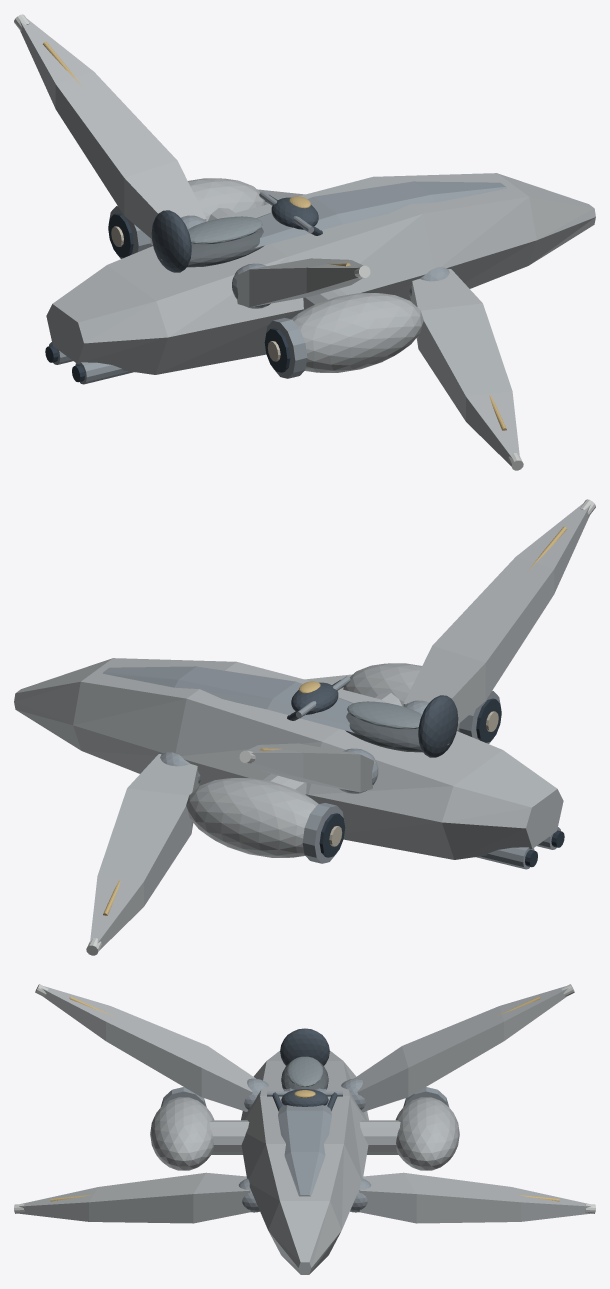
File: busan_pulse_silver_active.glb
The picture shows the model from 3 angles, top to bottom: view 1: azimuth 30°, elevation 25°; view 2: azimuth 150°, elevation 25°; view 3: azimuth 270°, elevation 25°; orthographic projection. The views are drawn at different scales.
Parts seen in each view (by area): view 1: center_hull_0, rear_wings_7, front_wings_10, side_turbine_housing_12, central_panel_1, seat_back_3, turbine_rim_13, saddle_pad_18, saddle_2, turbine_dark_inner_14, instrument_cluster_19, wing_hinges_6 (+1 smaller); view 2: center_hull_0, rear_wings_7, front_wings_10, side_turbine_housing_12, central_panel_1, seat_back_3, turbine_rim_13, saddle_pad_18, saddle_2, turbine_dark_inner_14, instrument_cluster_19, wing_hinges_6 (+1 smaller); view 3: front_wings_10, rear_wings_7, center_hull_0, side_turbine_housing_12, central_panel_1, pod_arm_11, wing_hinges_6, seat_back_3, saddle_pad_18, turbine_rim_13, instrument_cluster_19, saddle_2 (+2 smaller).
Part boxes in pixels (x1,y1,x2,y2): center_hull_0: [46, 173, 595, 374]; rear_wings_7: [19, 18, 363, 307]; front_wings_10: [257, 189, 519, 465]; side_turbine_housing_12: [150, 178, 423, 372]; central_panel_1: [255, 181, 506, 247]; seat_back_3: [151, 210, 191, 272]; turbine_rim_13: [108, 206, 307, 378]; saddle_pad_18: [188, 216, 262, 244]; saddle_2: [160, 227, 264, 267]; turbine_dark_inner_14: [108, 213, 290, 372]; instrument_cluster_19: [271, 197, 318, 229]; wing_hinges_6: [181, 215, 449, 308]; center_hull_0: [14, 658, 563, 859]; rear_wings_7: [246, 503, 590, 792]; front_wings_10: [90, 674, 352, 950]; side_turbine_housing_12: [186, 663, 459, 857]; central_panel_1: [103, 666, 354, 732]; seat_back_3: [418, 695, 458, 757]; turbine_rim_13: [302, 691, 501, 863]; saddle_pad_18: [347, 701, 421, 729]; saddle_2: [345, 712, 449, 752]; turbine_dark_inner_14: [319, 698, 501, 857]; instrument_cluster_19: [291, 682, 338, 714]; wing_hinges_6: [160, 700, 428, 793]; front_wings_10: [19, 1172, 590, 1223]; rear_wings_7: [41, 986, 568, 1111]; center_hull_0: [241, 1050, 368, 1274]; side_turbine_housing_12: [150, 1097, 459, 1170]; central_panel_1: [278, 1088, 331, 1196]; pod_arm_11: [209, 1120, 400, 1154]; wing_hinges_6: [238, 1078, 371, 1212]; seat_back_3: [280, 1028, 329, 1065]; saddle_pad_18: [286, 1056, 323, 1086]; turbine_rim_13: [161, 1087, 448, 1107]; instrument_cluster_19: [281, 1089, 328, 1106]; saddle_2: [281, 1062, 328, 1089].
Size of the model in its own units: 4.37 by 1.8 by 5.37.
